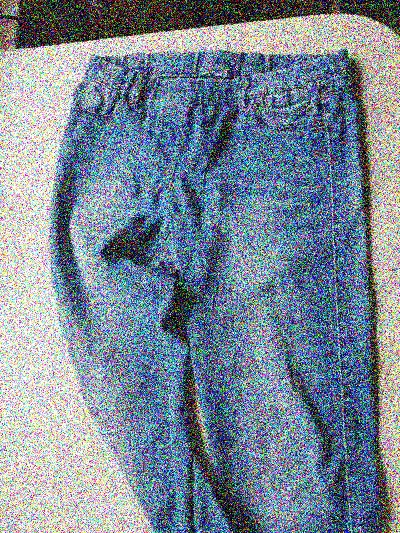Pants: (35, 39, 383, 531)
